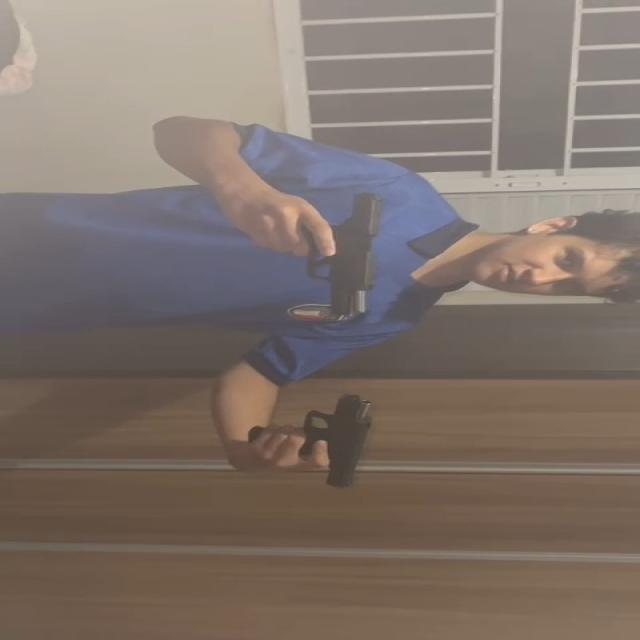gun: (296, 192, 386, 318), (276, 392, 378, 488)
